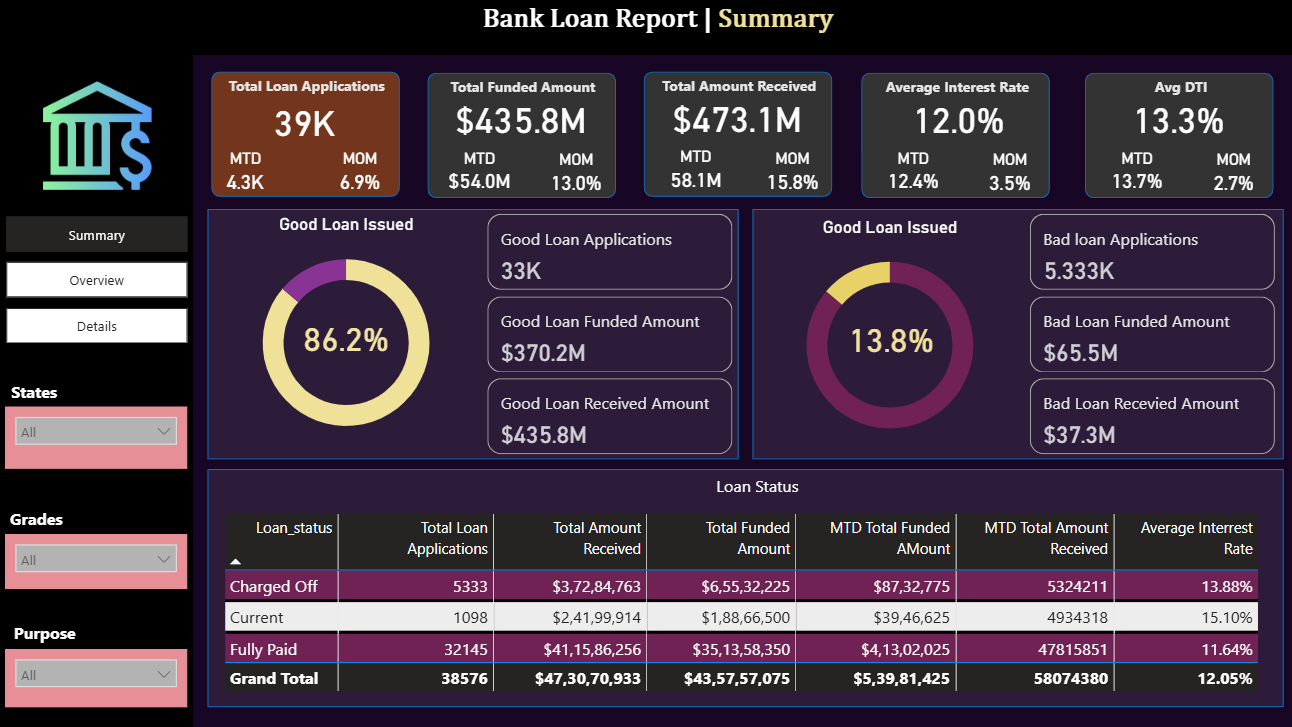

What the dashboard file says about the page in this screenshot:
{"tool":"powerbi","page":{"name":"Summary","canvas":[1280,720],"ordinal":0},"visuals":[{"type":"shape","box":[0,54.4,190.3,666],"z":0},{"type":"shape","box":[636.3,71.2,186.2,123.8],"z":0,"group":"g3"},{"type":"shape","box":[208.2,71.9,186.2,123.8],"z":0,"group":"g1"},{"type":"shape","box":[422.7,72.4,186.2,123.8],"z":0,"group":"g2"},{"type":"shape","box":[850.5,72.4,186.2,123.8],"z":0,"group":"g4"},{"type":"shape","box":[1071.8,72.4,186.2,123.8],"z":0,"group":"g5"},{"type":"shape","box":[0,0,1280.3,55],"z":1000,"group":"g9"},{"type":"group","id":"g1","title":"Group 1","box":[207.1,70.7,188.7,125],"z":1000},{"type":"card","fields":{"Values":["Bank_Loan.Total Amount Received"]},"box":[634.6,94,187.6,44.9],"z":1000,"group":"g3"},{"type":"card","fields":{"Values":["Bank_Loan.Average Interrest Rate"]},"box":[852.6,95.1,187.6,44.9],"z":1000,"group":"g4"},{"type":"card","fields":{"Values":["Bank_Loan.Total Funded Amount"]},"box":[421,95.2,187.6,44.9],"z":1000,"group":"g2"},{"type":"card","fields":{"Values":["Bank_Loan.Average DTI"]},"box":[1070.1,95.2,187.6,44.9],"z":1000,"group":"g5"},{"type":"card","fields":{"Values":["Bank_Loan.Total Loan Applications"]},"box":[207.1,98.3,187.6,44.9],"z":1000,"group":"g1"},{"type":"textbox","box":[471.6,0,369.7,54.4],"z":2000,"group":"g9"},{"type":"group","id":"g2","title":"Group 1","box":[421,71.2,188.2,124.3],"z":2000},{"type":"card","title":"MTD","fields":{"Values":["Bank_Loan.MTD Total Amount Received"]},"box":[639.5,146.6,95.1,46.2],"z":2000,"group":"g3"},{"type":"card","title":"MTD","fields":{"Values":["Bank_Loan.MTD Average Interest Rate"]},"box":[853.7,147.7,95.1,46.2],"z":2000,"group":"g4"},{"type":"card","title":"MTD","fields":{"Values":["Bank_Loan.MTD Average DTI"]},"box":[1075,147.7,95.1,46.2],"z":2000,"group":"g5"},{"type":"card","title":"MTD","fields":{"Values":["Bank_Loan.MTD Total Funded AMount"]},"box":[425.9,147.8,95.1,46.2],"z":2000,"group":"g2"},{"type":"card","title":"MTD","fields":{"Values":["Bank_Loan.MTD loan Applications"]},"box":[212,148.2,59.8,47.6],"z":2000,"group":"g1"},{"type":"group","id":"g3","title":"Group 1","box":[634.6,70,189.4,124.3],"z":3000},{"type":"card","title":"MOM","fields":{"Values":["Bank_Loan.MOM TotalAmount Received"]},"box":[743.3,147.5,78.8,47.6],"z":3000,"group":"g3"},{"type":"card","title":"MOM","fields":{"Values":["Bank_Loan.MOM"]},"box":[315.3,148.2,78.8,47.6],"z":3000,"group":"g1"},{"type":"card","title":"MOM","fields":{"Values":["Bank_Loan.MOM Average Interrest Rate"]},"box":[957.6,148.6,78.8,47.6],"z":3000,"group":"g4"},{"type":"card","title":"MOM","fields":{"Values":["Bank_Loan.MOM Average DTI"]},"box":[1178.8,148.6,78.8,47.6],"z":3000,"group":"g5"},{"type":"card","title":"MOM","fields":{"Values":["Bank_Loan.MOM Total Funded Amount"]},"box":[529.7,148.7,78.8,47.6],"z":3000,"group":"g2"},{"type":"textbox","box":[637.6,70,186.2,30.6],"z":4000,"group":"g3"},{"type":"textbox","box":[209.6,70.7,186.2,30.6],"z":4000,"group":"g1"},{"type":"textbox","box":[424,71.2,186.2,30.6],"z":4000,"group":"g2"},{"type":"group","id":"g4","title":"Group 1","box":[850.5,71.2,189.4,124.3],"z":4000},{"type":"textbox","box":[851.6,71.2,187.6,31.3],"z":4000,"group":"g4"},{"type":"textbox","box":[1072.9,71.2,187.6,31.3],"z":4000,"group":"g5"},{"type":"card","fields":{"Values":["Bank_Loan.Good Loan %"]},"box":[266.4,305.8,150.9,57.1],"z":4500,"group":"g7"},{"type":"group","id":"g5","title":"Group 1","box":[1070.1,71.2,190.6,125.5],"z":5000},{"type":"group","id":"g6","title":"Group 4","box":[743.4,207.9,524.6,247.4],"z":5500},{"type":"group","id":"g7","title":"Group 2","box":[205.2,207.9,524.6,247.4],"z":6000},{"type":"shape","box":[205.2,207.9,524.6,247.4],"z":6500,"group":"g7"},{"type":"shape","box":[205.1,464.5,1062.9,235.3],"z":7000},{"type":"group","id":"g8","title":"Group 3","box":[743.4,207.9,524.6,247.4],"z":7500,"group":"g6"},{"type":"donutChart","title":"Good Loan Issued","fields":{"Category":["Bank_Loan.Good vs Bad Loan"],"Y":["Bank_Loan.Total Loan Applications"]},"box":[750.2,214.7,256.9,235.1],"z":8000,"group":"g6"},{"type":"shape","box":[743.4,207.9,524.6,247.4],"z":9000,"group":"g8"},{"type":"tableEx","fields":{"Values":["Bank_Loan.loan_status","Bank_Loan.Total Loan Applications","Bank_Loan.Total Amount Received","Bank_Loan.Total Funded Amount","Bank_Loan.MTD Total Funded AMount","Bank_Loan.MTD Total Amount Received","Bank_Loan.Average Interrest Rate"]},"box":[216,504.3,1041.2,195.4],"z":9000},{"type":"card","fields":{"Values":["Bank_Loan.Bad Loan %"]},"box":[804.6,307.1,150.9,57.1],"z":10000,"group":"g8"},{"type":"textbox","box":[669.6,464.5,158,39.8],"z":10000},{"type":"donutChart","title":"Good Loan Issued","fields":{"Category":["Bank_Loan.Good vs Bad Loan"],"Y":["Bank_Loan.Total Loan Applications"]},"box":[213.4,213.3,256.9,235.1],"z":11000,"group":"g7"},{"type":"slicer","fields":{"Values":["Bank_Loan.address_state"]},"box":[4.8,403,179.8,61.5],"z":11000},{"type":"cardVisual","fields":{"Data":["Bank_Loan.Good Loan Applications","Bank_Loan.Good Loan Funded Amount","Bank_Loan.Good Loan Received Amount"]},"box":[477,207.9,252.8,247.4],"z":12000,"group":"g7"},{"type":"cardVisual","fields":{"Data":["Bank_Loan.Bad loan Applications","Bank_Loan.Bad Loan Funded Amount","Bank_Loan.Bad Loan Recevied Amount"]},"box":[1012.5,207.9,252.8,247.4],"z":12000,"group":"g8"},{"type":"slicer","fields":{"Values":["Bank_Loan.grade"]},"box":[4.8,528.4,179.8,54.3],"z":12000},{"type":"slicer","fields":{"Values":["Bank_Loan.purpose"]},"box":[4.8,641.8,179.8,57.9],"z":13000},{"type":"group","id":"g9","title":"Group 5","box":[0,0,1280.3,55],"z":14000},{"type":"textbox","box":[6,371.6,105,31.4],"z":15000},{"type":"textbox","box":[4.8,497.1,105,31.4],"z":16000},{"type":"textbox","box":[8.4,610.5,105,31.4],"z":17000},{"type":"image","box":[18.1,76,154.4,117],"z":18000},{"type":"pageNavigator","box":[6,214.7,179.8,127.9],"z":19000}]}

Visuals, with their boxes in screenshot pixels (x1, y1, x2, y2), scaled from the page's 1280x720 canvas onto the 1292x727 screenshot:
shape: box(0, 55, 192, 726)
shape: box(642, 72, 830, 197)
shape: box(210, 73, 398, 198)
shape: box(427, 73, 615, 198)
shape: box(858, 73, 1046, 198)
shape: box(1082, 73, 1270, 198)
shape: box(0, 0, 1291, 56)
"Group 1" group: box(209, 71, 400, 198)
card - Bank_Loan.Total Amount Received: box(641, 95, 830, 140)
card - Bank_Loan.Average Interrest Rate: box(861, 96, 1050, 141)
card - Bank_Loan.Total Funded Amount: box(425, 96, 614, 141)
card - Bank_Loan.Average DTI: box(1080, 96, 1269, 141)
card - Bank_Loan.Total Loan Applications: box(209, 99, 398, 145)
textbox: box(476, 0, 849, 55)
"Group 1" group: box(425, 72, 615, 197)
"MTD" card: box(645, 148, 741, 195)
"MTD" card: box(862, 149, 958, 196)
"MTD" card: box(1085, 149, 1181, 196)
"MTD" card: box(430, 149, 526, 196)
"MTD" card: box(214, 150, 274, 198)
"Group 1" group: box(641, 71, 832, 196)
"MOM" card: box(750, 149, 830, 197)
"MOM" card: box(318, 150, 398, 198)
"MOM" card: box(967, 150, 1046, 198)
"MOM" card: box(1190, 150, 1269, 198)
"MOM" card: box(535, 150, 614, 198)
textbox: box(644, 71, 832, 102)
textbox: box(212, 71, 400, 102)
textbox: box(428, 72, 616, 103)
"Group 1" group: box(858, 72, 1050, 197)
textbox: box(860, 72, 1049, 103)
textbox: box(1083, 72, 1272, 103)
card - Bank_Loan.Good Loan %: box(269, 309, 421, 366)
"Group 1" group: box(1080, 72, 1273, 199)
"Group 4" group: box(750, 210, 1280, 460)
"Group 2" group: box(207, 210, 737, 460)
shape: box(207, 210, 737, 460)
shape: box(207, 469, 1280, 707)
"Group 3" group: box(750, 210, 1280, 460)
"Good Loan Issued" donutChart: box(757, 217, 1017, 454)
shape: box(750, 210, 1280, 460)
tableEx - Bank_Loan.loan_status x Bank_Loan.Total Loan Applications: box(218, 509, 1269, 707)
card - Bank_Loan.Bad Loan %: box(812, 310, 964, 368)
textbox: box(676, 469, 835, 509)
"Good Loan Issued" donutChart: box(215, 215, 475, 453)
slicer - Bank_Loan.address_state: box(5, 407, 186, 469)
cardVisual - Bank_Loan.Good Loan Applications x Bank_Loan.Good Loan Funded Amount: box(481, 210, 737, 460)
cardVisual - Bank_Loan.Bad loan Applications x Bank_Loan.Bad Loan Funded Amount: box(1022, 210, 1277, 460)
slicer - Bank_Loan.grade: box(5, 534, 186, 588)
slicer - Bank_Loan.purpose: box(5, 648, 186, 707)
"Group 5" group: box(0, 0, 1291, 56)
textbox: box(6, 375, 112, 407)
textbox: box(5, 502, 111, 534)
textbox: box(8, 616, 114, 648)
image: box(18, 77, 174, 195)
pageNavigator: box(6, 217, 188, 346)
